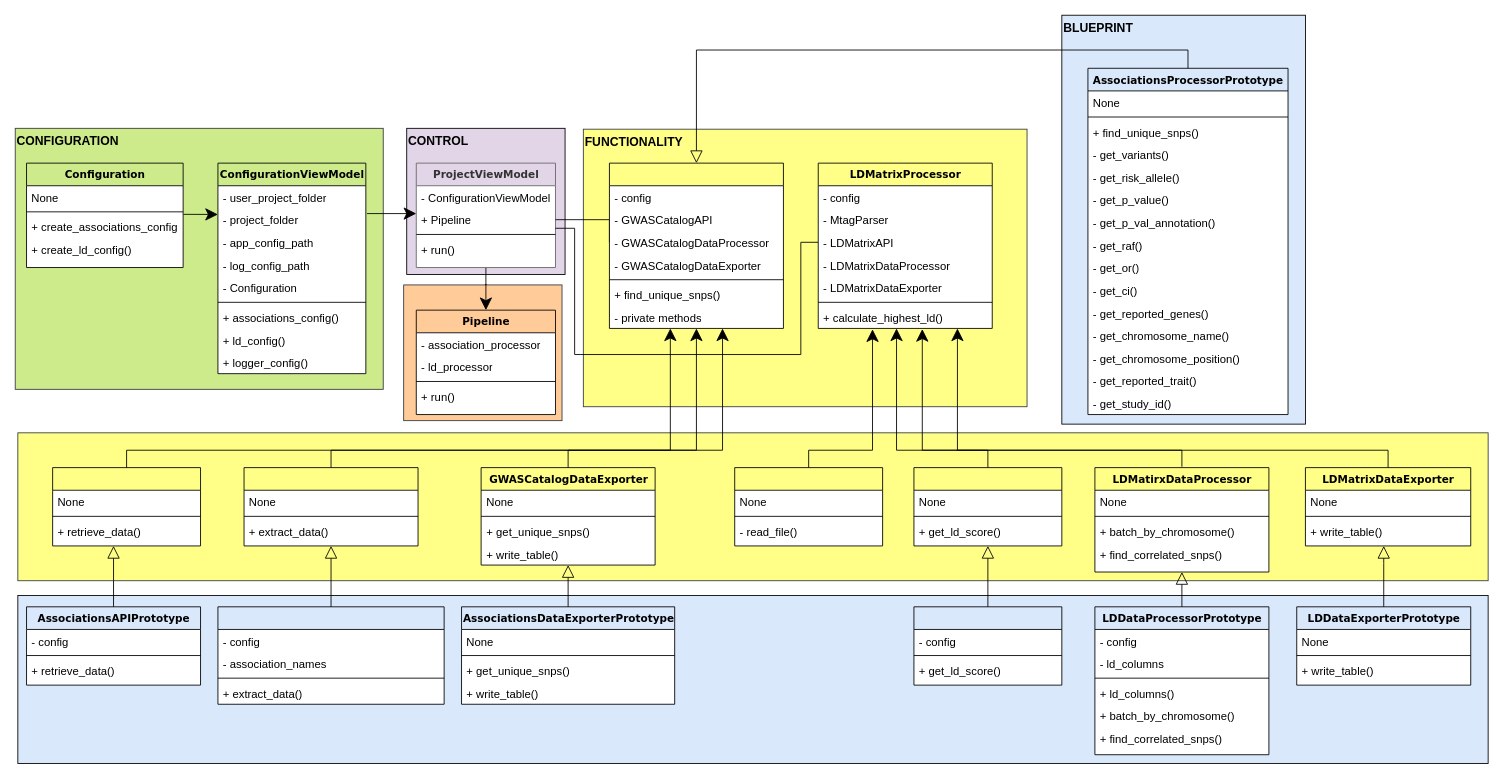
Image size: 1503x779. Some labels were removed from this diagram. Each missing label, with the box of its shape:
AssociationsDataProcessorPrototype: (217, 606, 444, 704)
EXECUTION: (403, 284, 562, 421)
GWASCatalogAPI: (52, 467, 201, 546)
GWASCatalogDataProcessor: (243, 467, 418, 546)
GWASCatalogProcessor: (609, 162, 783, 328)
LDAPIPrototype: (913, 606, 1062, 685)
LDMatrixAPI: (913, 467, 1062, 546)
MtagParser: (734, 467, 883, 546)
